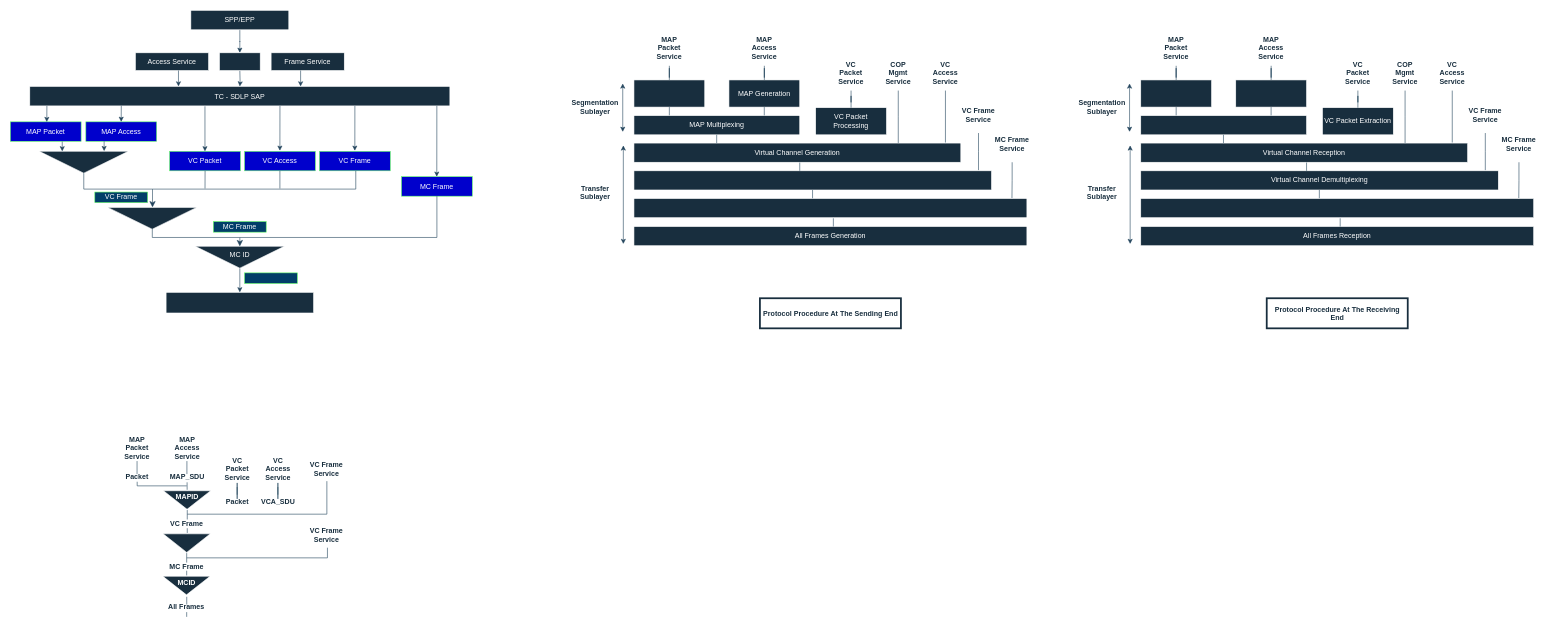
This 1547x628 diagram has some shape labels left out. Each missing label, with the box of its shape:
All Frame: (244, 272, 297, 283)
MAP Demultiplexing: (1140, 115, 1307, 135)
MAP ID: (39, 151, 128, 173)
MAP Packet Extraction: (1140, 79, 1212, 107)
MAP Packet Processing: (633, 79, 705, 107)
MAP Reception: (1235, 79, 1307, 107)
Master Channel Demultiplexing: (1140, 198, 1534, 218)
Master Channel Multiplexing: (633, 198, 1027, 218)
Packet Service: (219, 52, 260, 71)
TC - Synchronization & Channel Coding: (165, 292, 314, 313)
VC ID: (107, 207, 197, 229)
VCID: (163, 533, 210, 552)
Virtual Channel Multiplexing: (633, 170, 991, 190)
